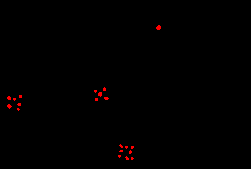Target: (156, 25, 161, 30), (7, 104, 12, 109), (98, 92, 102, 97), (7, 96, 11, 100), (119, 144, 123, 148), (125, 156, 129, 160), (104, 97, 109, 100), (103, 87, 106, 91), (17, 103, 21, 106), (129, 150, 132, 154), (94, 90, 97, 93), (19, 95, 22, 98), (13, 98, 16, 101), (95, 98, 98, 101), (17, 108, 20, 111), (125, 146, 128, 149), (131, 146, 134, 149), (118, 155, 121, 158), (131, 157, 134, 160), (119, 150, 123, 152)
